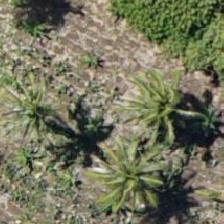coconut_tree: (132, 58, 222, 148), (89, 135, 179, 223), (0, 61, 76, 151)
